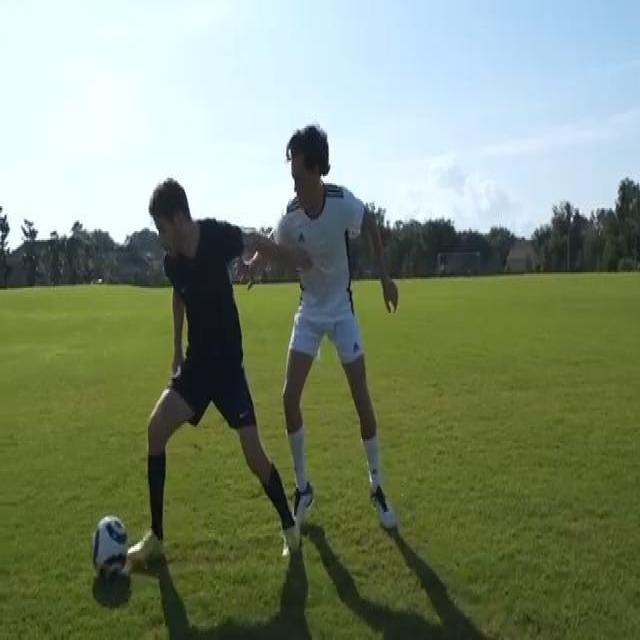Soccer Ball: (92, 518, 128, 586)
